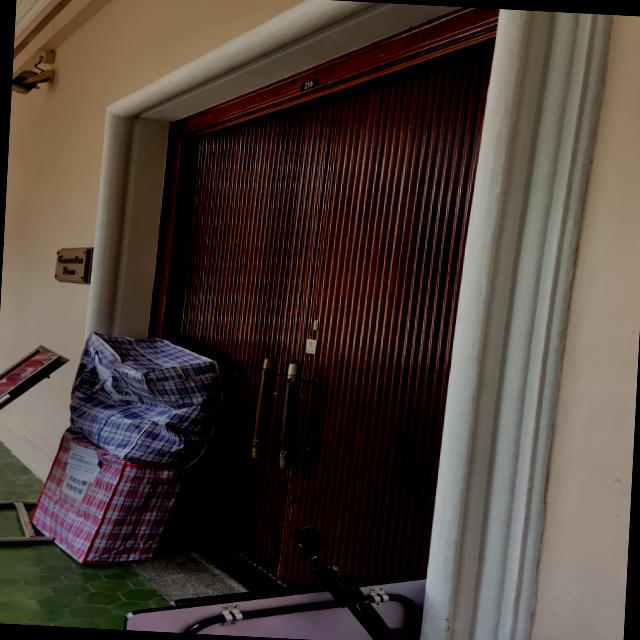room218: (300, 77, 320, 91)
